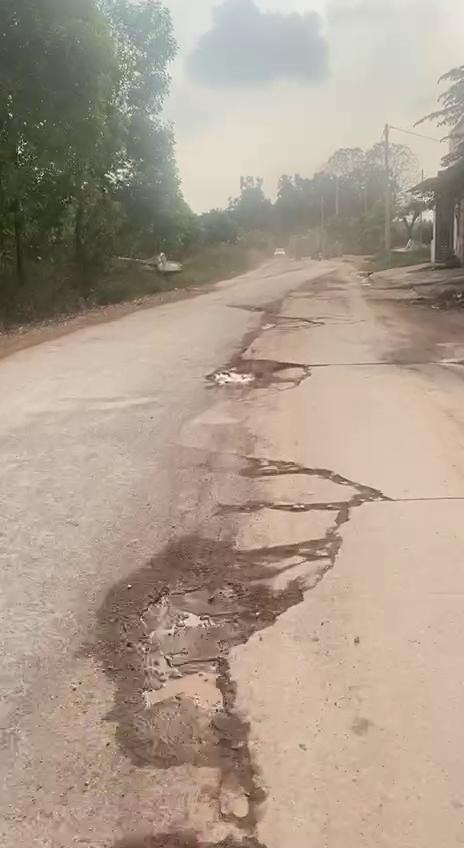pothole: (119, 526, 353, 662), (132, 703, 268, 831), (204, 354, 299, 393)
